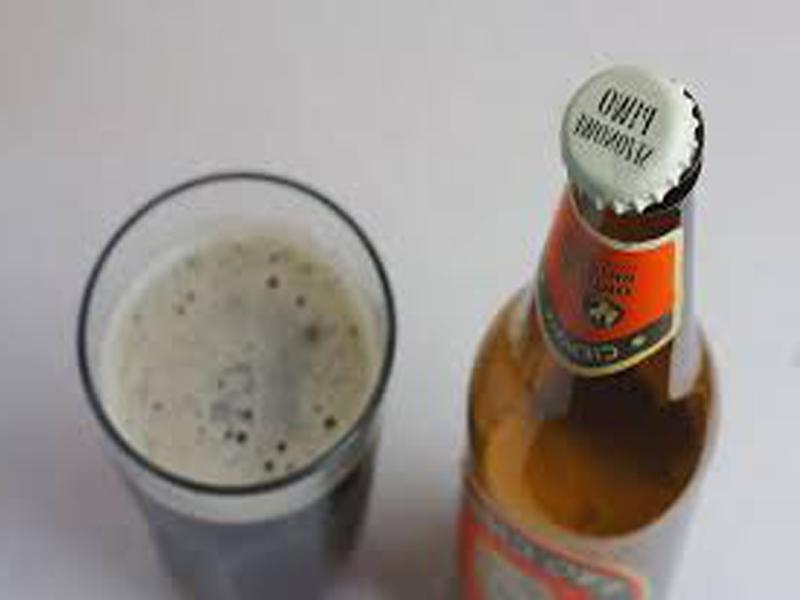Beer: (453, 66, 718, 600)
